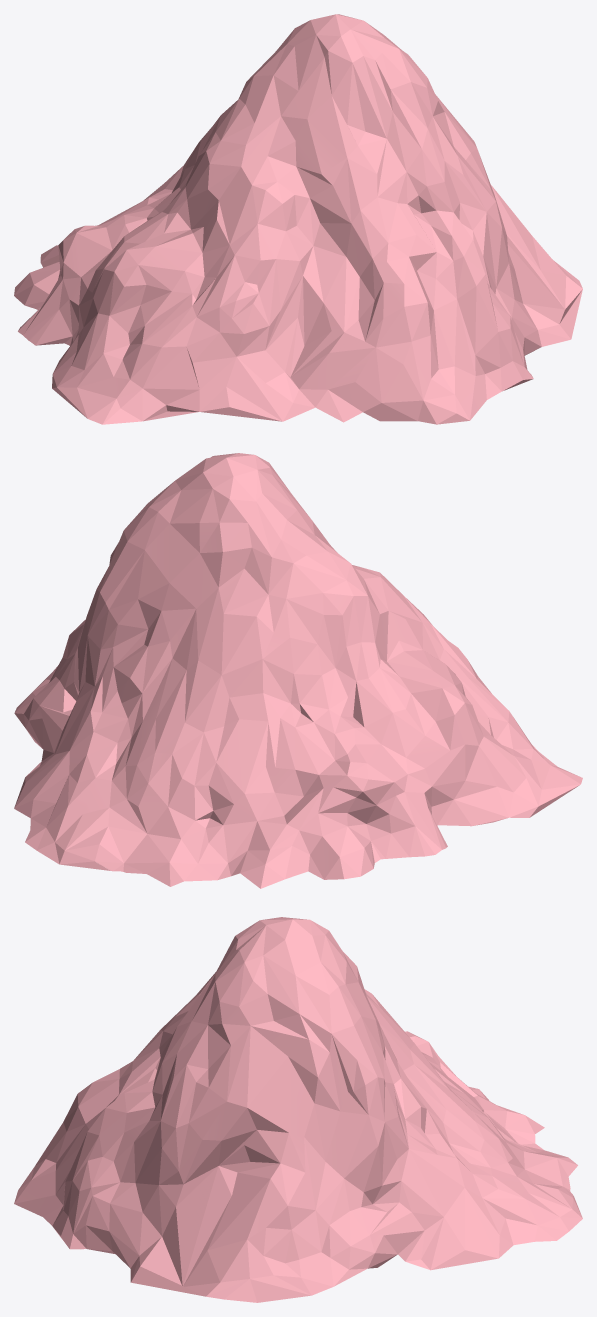
File: mountain0.glb
3 renders of one model, top to bottom at view 1: azimuth 30°, elevation 25°; view 2: azimuth 150°, elevation 25°; view 3: azimuth 270°, elevation 25°, orthographic. The views are drawn at different scales.
Visible parts, largest first — view 1: node_Mountain3_-1129440; view 2: node_Mountain3_-1129440; view 3: node_Mountain3_-1129440.
Part boxes in pixels (x1=…): node_Mountain3_-1129440: x1=14, y1=14, x2=582, y2=424; node_Mountain3_-1129440: x1=14, y1=453, x2=582, y2=888; node_Mountain3_-1129440: x1=14, y1=917, x2=582, y2=1302.
Bounding box in the file's own units: 116 × 65.54 × 116.
